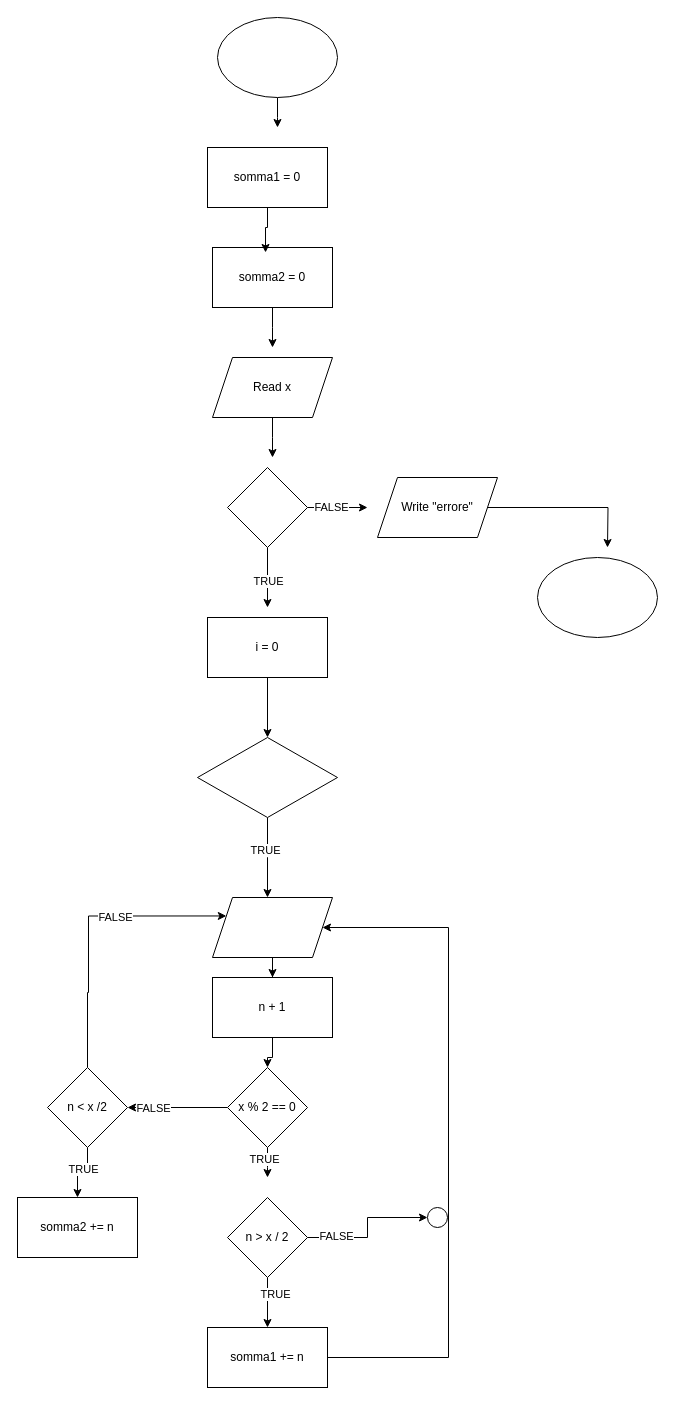
Image size: 675x1405. Some labels were removed from this diagram. The centre of each missing label's shape, as x and y in pixels:
"END" goes at pixel 597 597.
"i < 10" goes at pixel 267 777.
"Read n" goes at pixel 272 927.
"START" goes at pixel 277 57.
"x > 0" goes at pixel 267 507.
